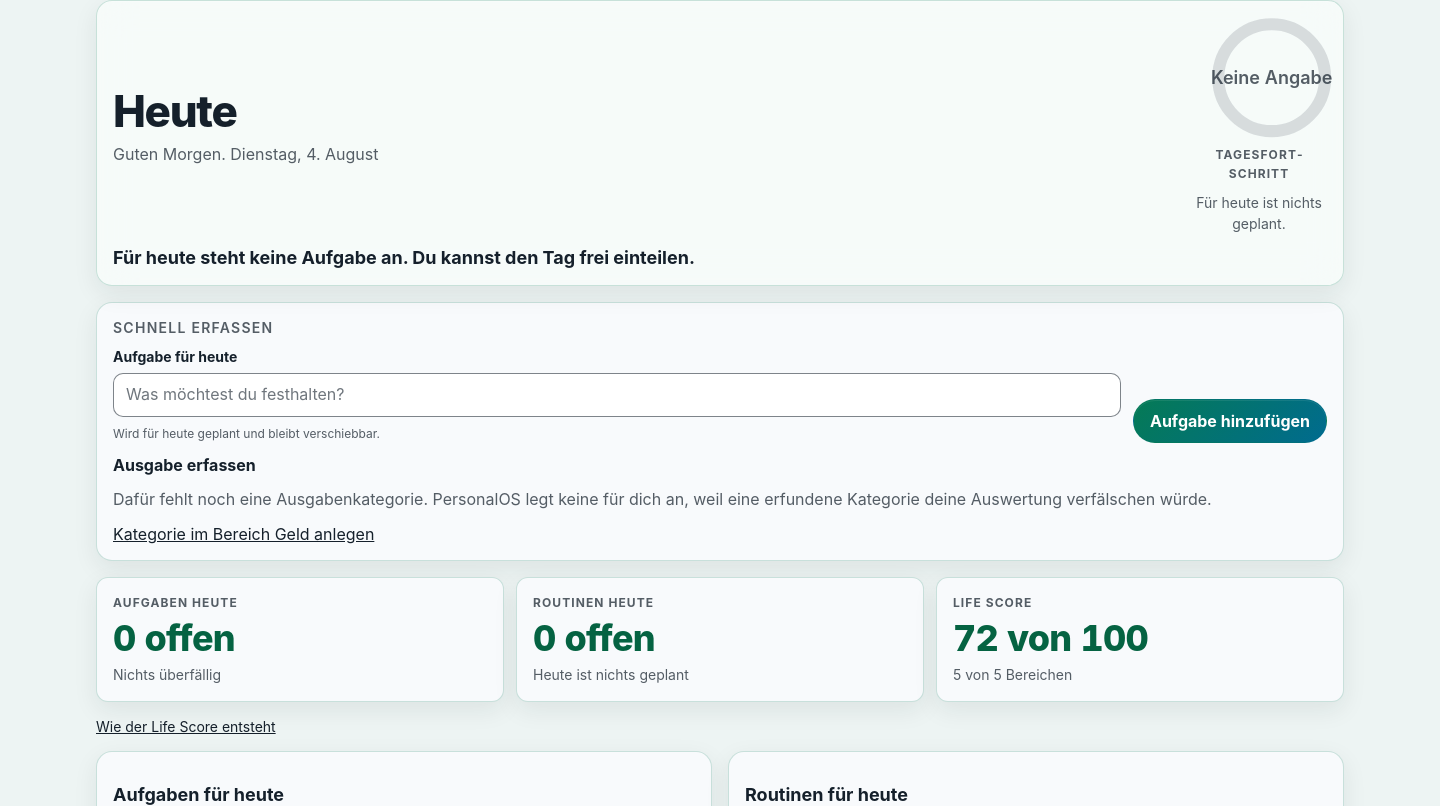
Scenario: TodayPage › captures a task through the quick action and updates the cards
Type "Rechnung prüfen" into the field labelled "Aufgabe für heute" at (617, 394), box [113, 372, 1121, 416]
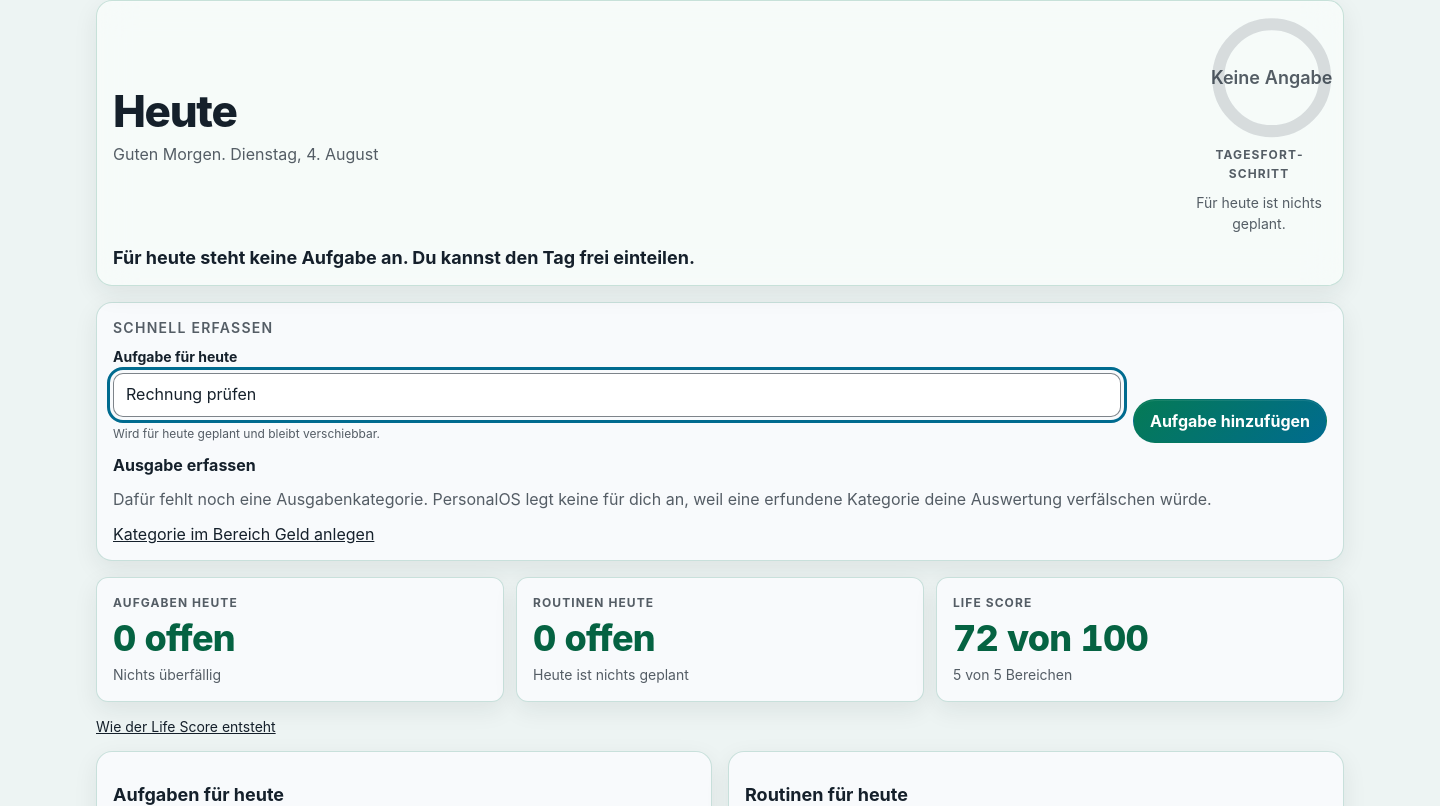
Click the button "Aufgabe hinzufügen" at (1230, 421), box [1133, 399, 1327, 443]
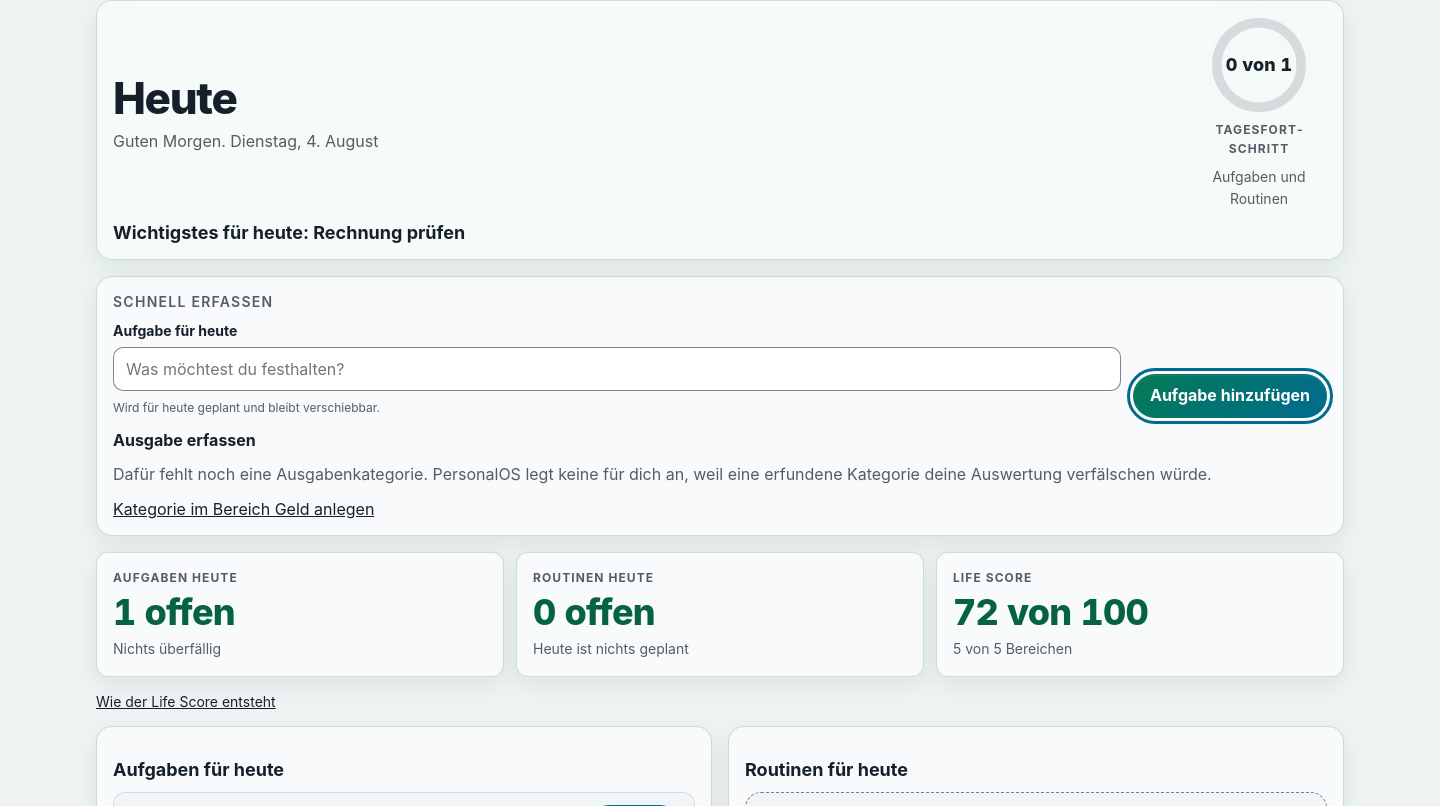
Now the text "Wichtigstes für heute: Rechnung prüfen" is shown, box [113, 222, 465, 243]
